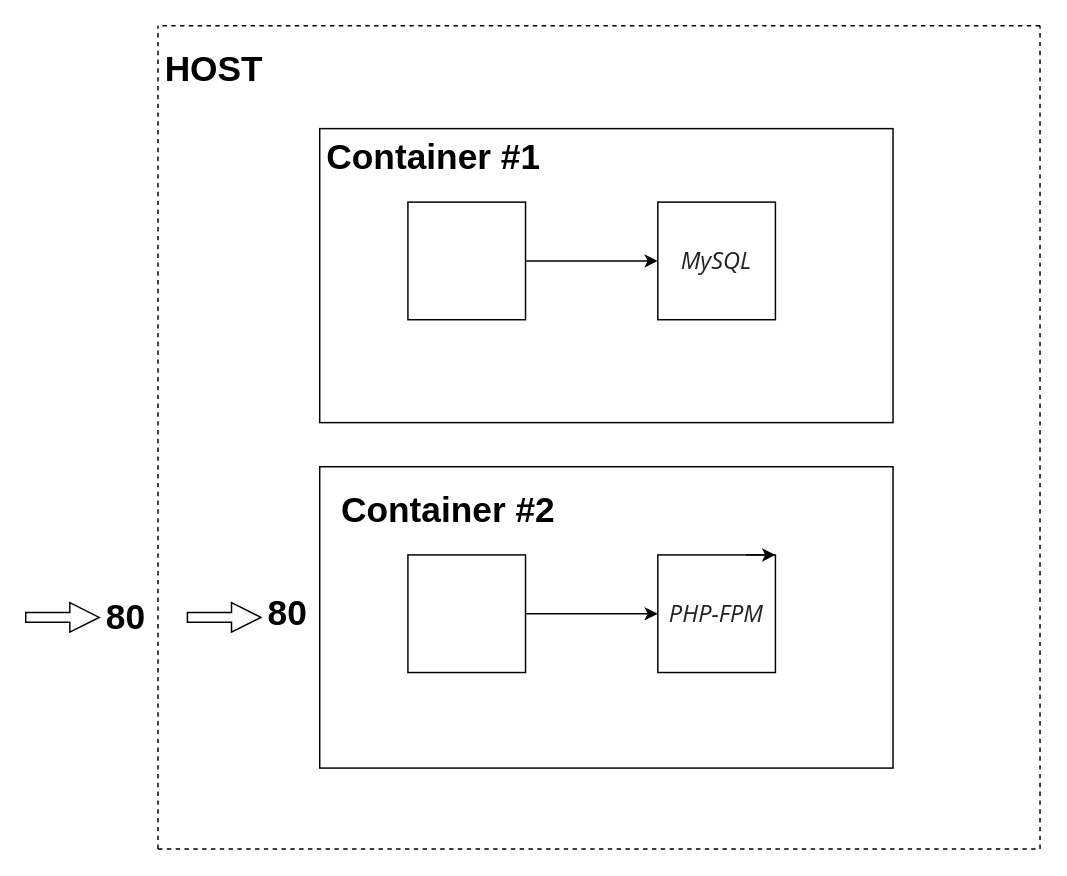
Some shapes in this 1067 by 876 pixel diagram are drawn without their labels. Each missing label, with the box of its shape:
Memcached: (406, 201, 526, 320)
Nginx: (406, 553, 526, 673)
